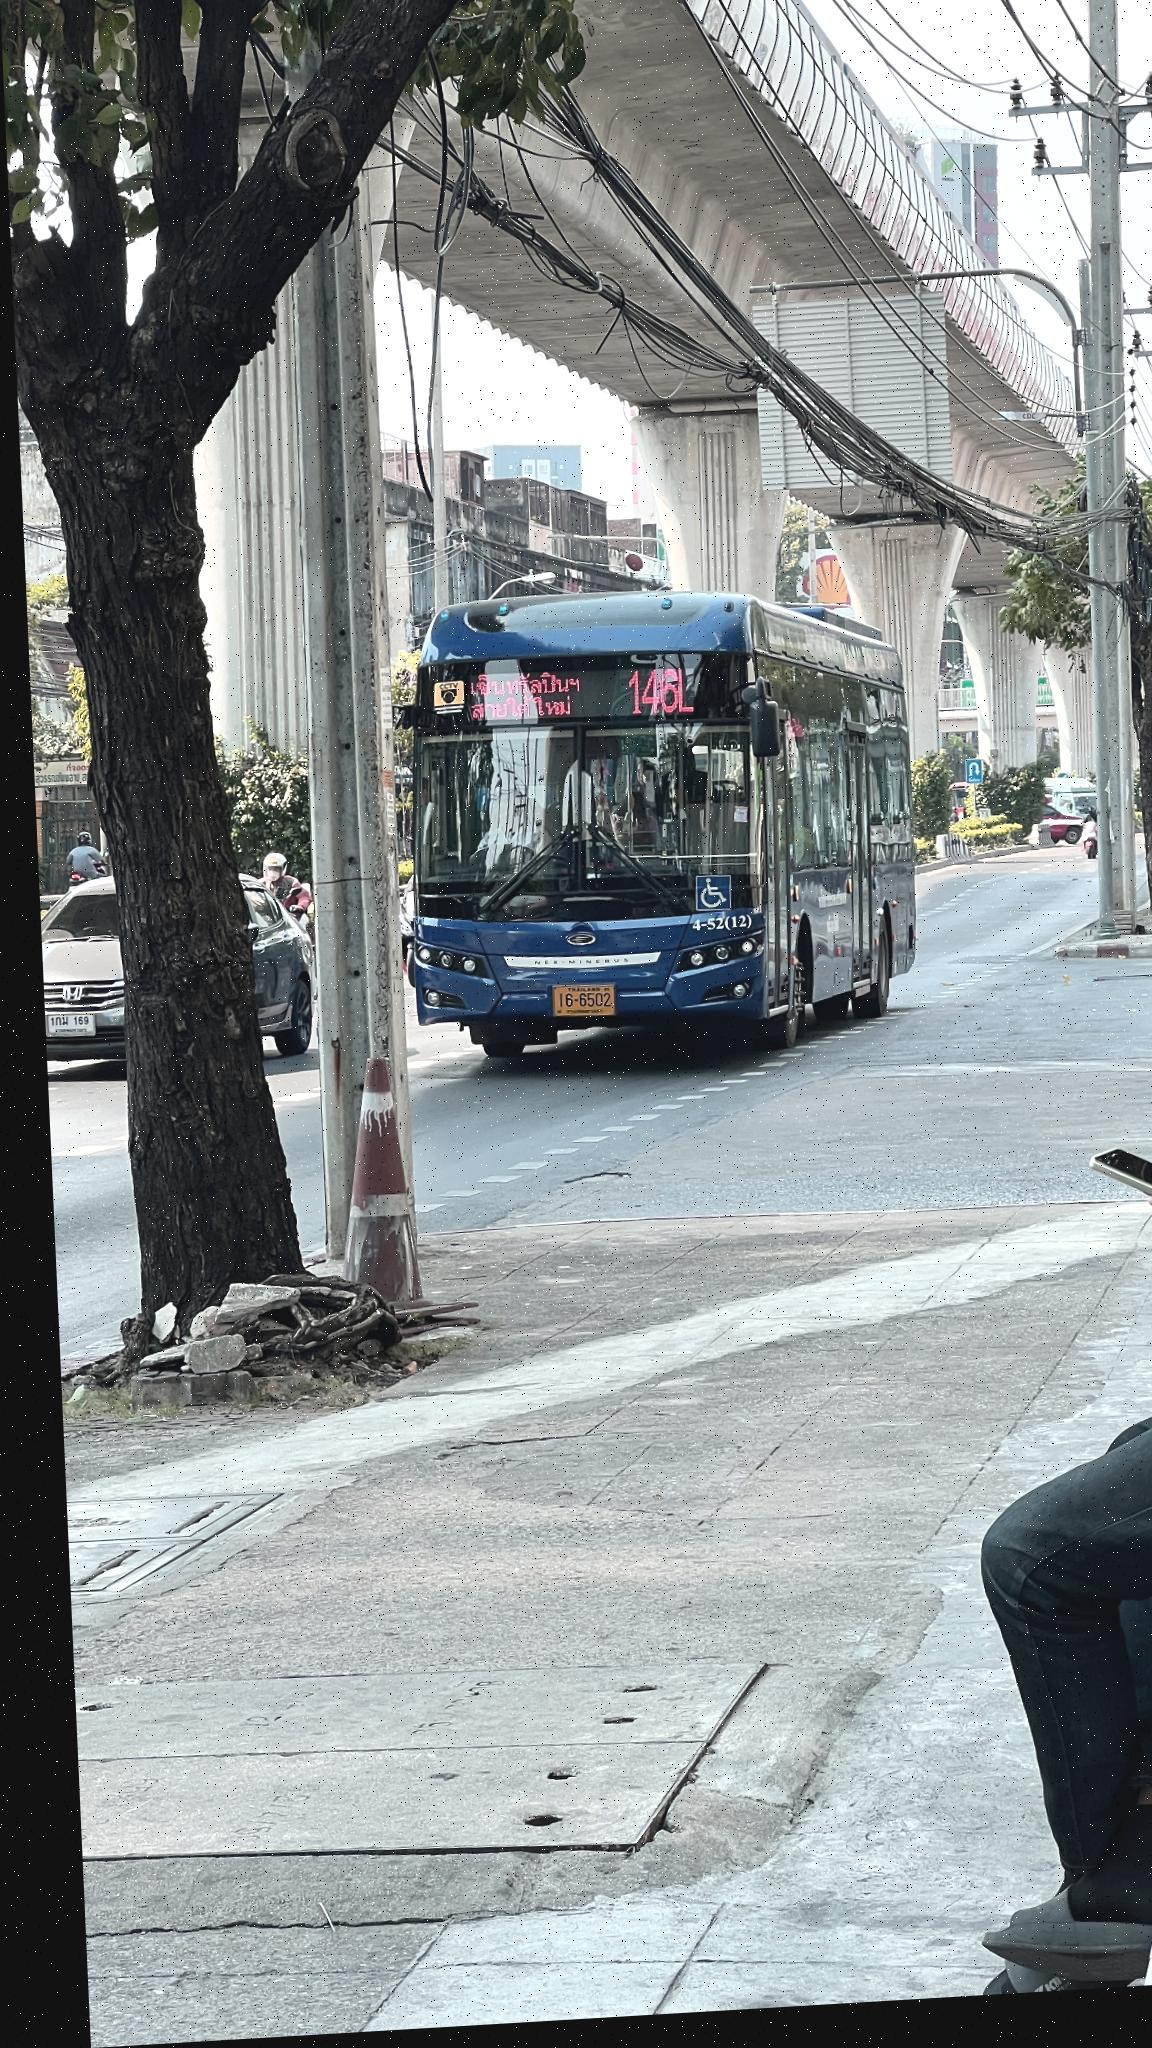Bus Line Number: (613, 665, 706, 729)
Bus Side Number: (674, 916, 750, 945)
Destination Sign: (450, 665, 587, 741)
TSB-Bus: (399, 596, 910, 1072)
